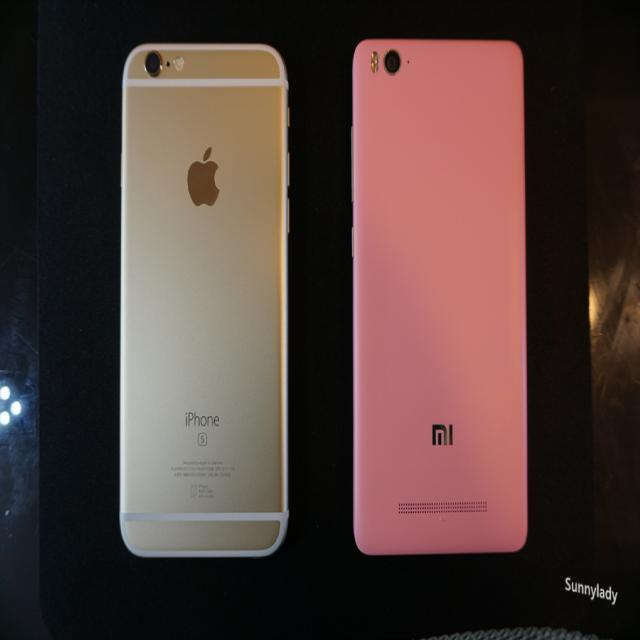phone: (354, 34, 526, 558), (120, 41, 286, 558)
